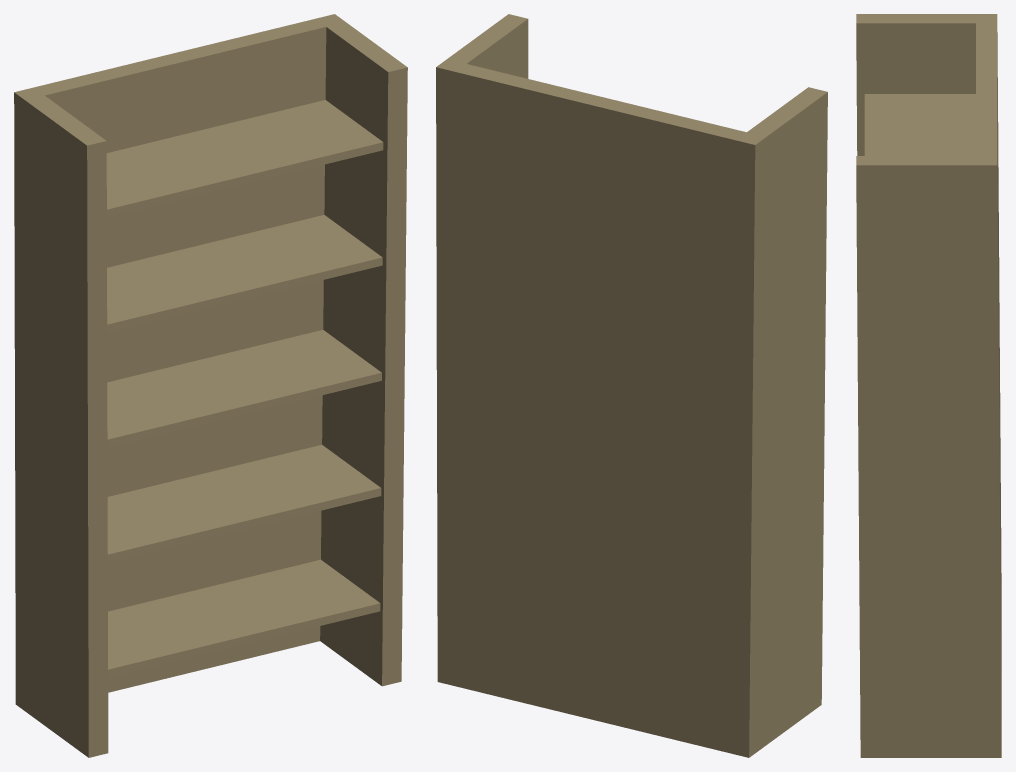
Rendered from szafka.fbx.
3 renders of one model, left to right at view 1: azimuth 30°, elevation 25°; view 2: azimuth 150°, elevation 25°; view 3: azimuth 270°, elevation 25°, orthographic. The views are drawn at different scales.
Parts seen in each view (by area): view 1: Cube.004, Cube.002; view 2: Cube.004; view 3: Cube.004, Cube.002.
Part boxes in pixels (<box>): Cube.004: <box>14,14,407,757</box>; Cube.002: <box>106,100,383,677</box>; Cube.004: <box>436,14,827,757</box>; Cube.004: <box>856,14,1001,757</box>; Cube.002: <box>864,94,975,155</box>.
Size of the model in its own units: 79.75 by 146 by 32.42.
